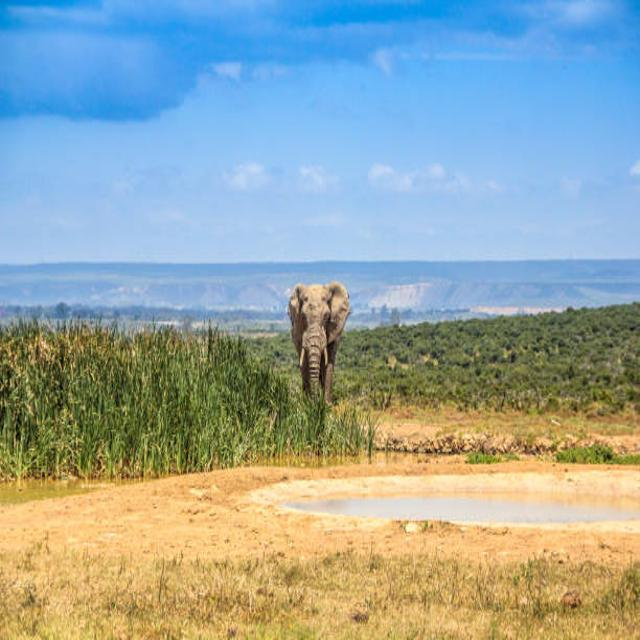elephant: (244, 251, 402, 453)
